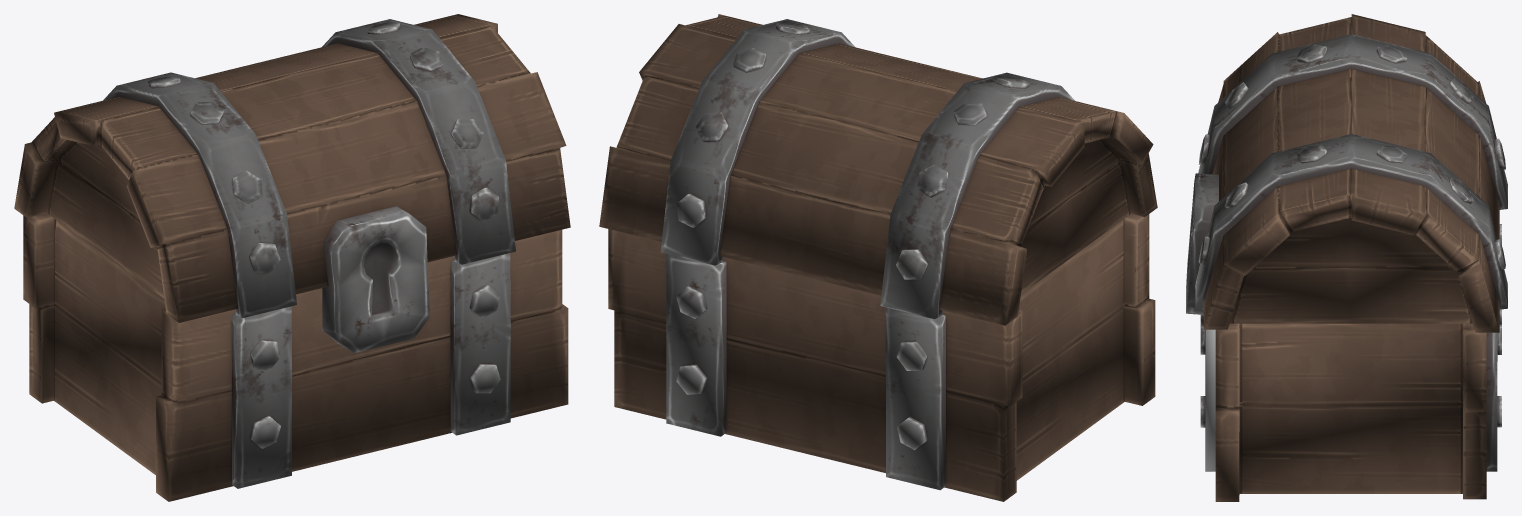
The model's file is chest1_testAnim1.fbx.
3 renders of one model, left to right at view 1: azimuth 30°, elevation 25°; view 2: azimuth 150°, elevation 25°; view 3: azimuth 270°, elevation 25°, orthographic. The views are drawn at different scales.
Visible parts, largest first — view 1: chest_lid_low, chest_bot_low; view 2: chest_lid_low, chest_bot_low; view 3: chest_lid_low, chest_bot_low.
Part boxes in pixels (left/top/right/bottom): chest_lid_low: left=14, top=14, right=570, bottom=353; chest_bot_low: left=23, top=213, right=568, bottom=501; chest_lid_low: left=599, top=14, right=1157, bottom=325; chest_bot_low: left=608, top=214, right=1155, bottom=501; chest_lid_low: left=1186, top=14, right=1507, bottom=332; chest_bot_low: left=1200, top=224, right=1501, bottom=501.
Size of the model in its own units: 196 by 156 by 145.
1 material, 1 textured.
